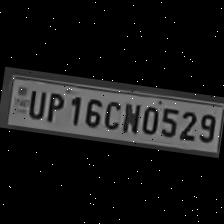0: (138, 101, 160, 136)
1: (62, 92, 84, 128)
2: (175, 106, 199, 142)
5: (156, 102, 181, 138)
6: (80, 94, 104, 128)
9: (194, 108, 218, 144)
C: (99, 96, 122, 132)
N: (118, 98, 142, 135)
P: (42, 88, 67, 124)
U: (22, 84, 46, 119)
